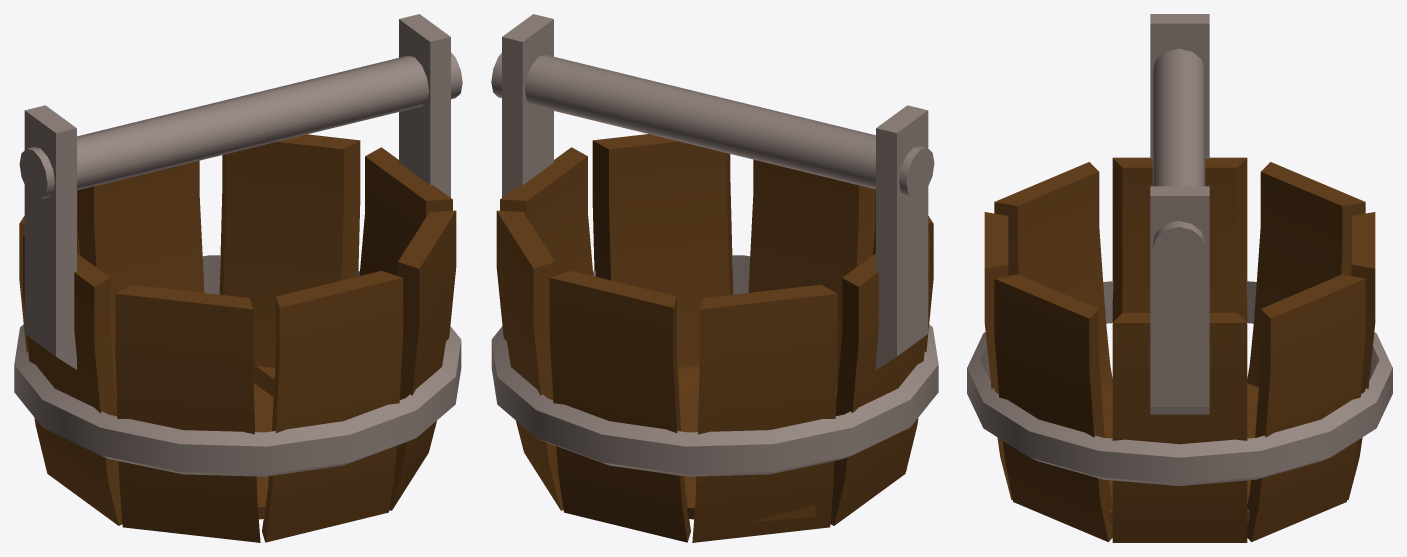
The model's file is prop-bucket.glb.
3 renders of one model, left to right at view 1: azimuth 30°, elevation 25°; view 2: azimuth 150°, elevation 25°; view 3: azimuth 270°, elevation 25°, orthographic. The views are drawn at different scales.
Parts seen in each view (by area): view 1: Prop_Bucket; view 2: Prop_Bucket; view 3: Prop_Bucket.
Boxes of the visible parts, <box> form: Prop_Bucket: <box>14,14,462,542</box>; Prop_Bucket: <box>491,14,938,542</box>; Prop_Bucket: <box>967,14,1392,542</box>.
Bounding box in the file's own units: 0.7596 × 0.6795 × 0.7147.
1 material, 1 textured.
